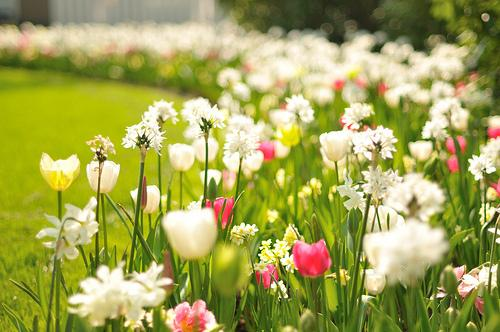tulip: (293, 237, 333, 278), (39, 150, 80, 189), (87, 160, 120, 193), (319, 129, 351, 162), (167, 141, 195, 170), (132, 185, 160, 213)
